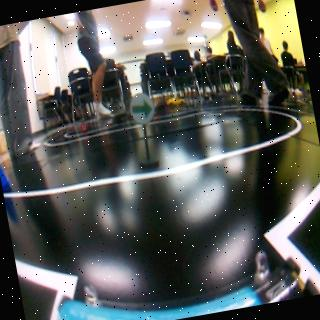right: (128, 92, 155, 125)
